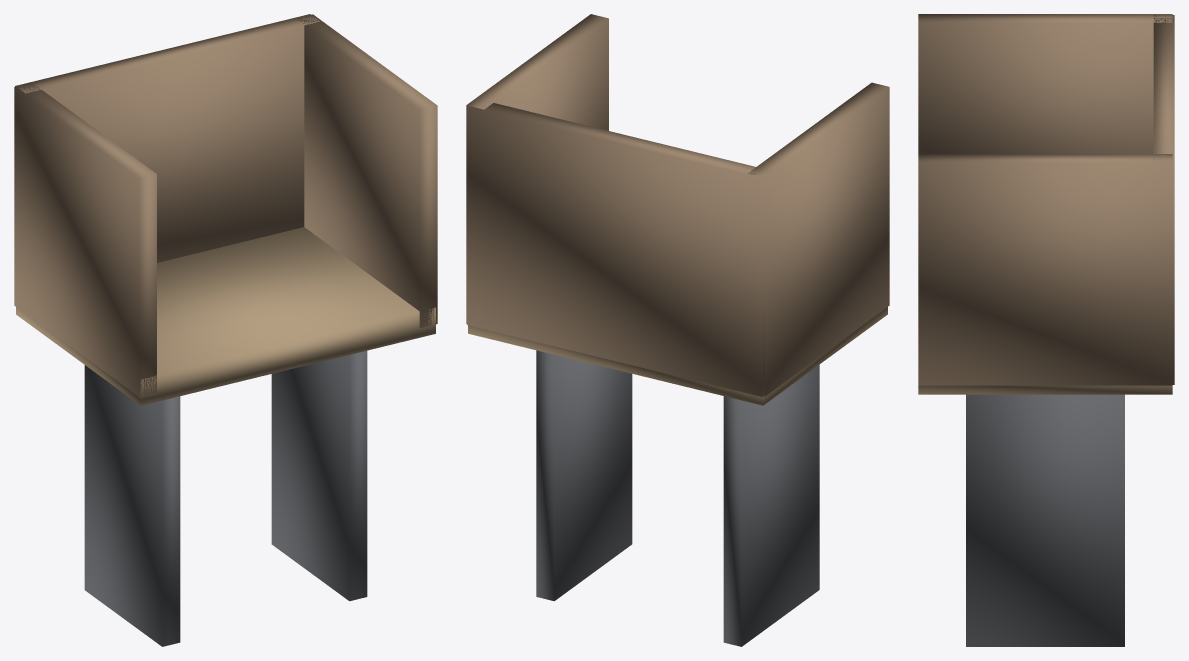
The model's file is study_carrel.glb.
The picture shows the model from 3 angles, left to right: view 1: azimuth 30°, elevation 25°; view 2: azimuth 150°, elevation 25°; view 3: azimuth 270°, elevation 25°; orthographic projection. The views are drawn at different scales.
Parts seen in each view (by area): view 1: world; view 2: world; view 3: world.
Boxes of the visible parts, bbox=[...] form: world: bbox=[14, 14, 437, 646]; world: bbox=[466, 14, 889, 646]; world: bbox=[918, 14, 1174, 646].
Bounding box in the file's own units: 0.83 × 1.32 × 0.605.
